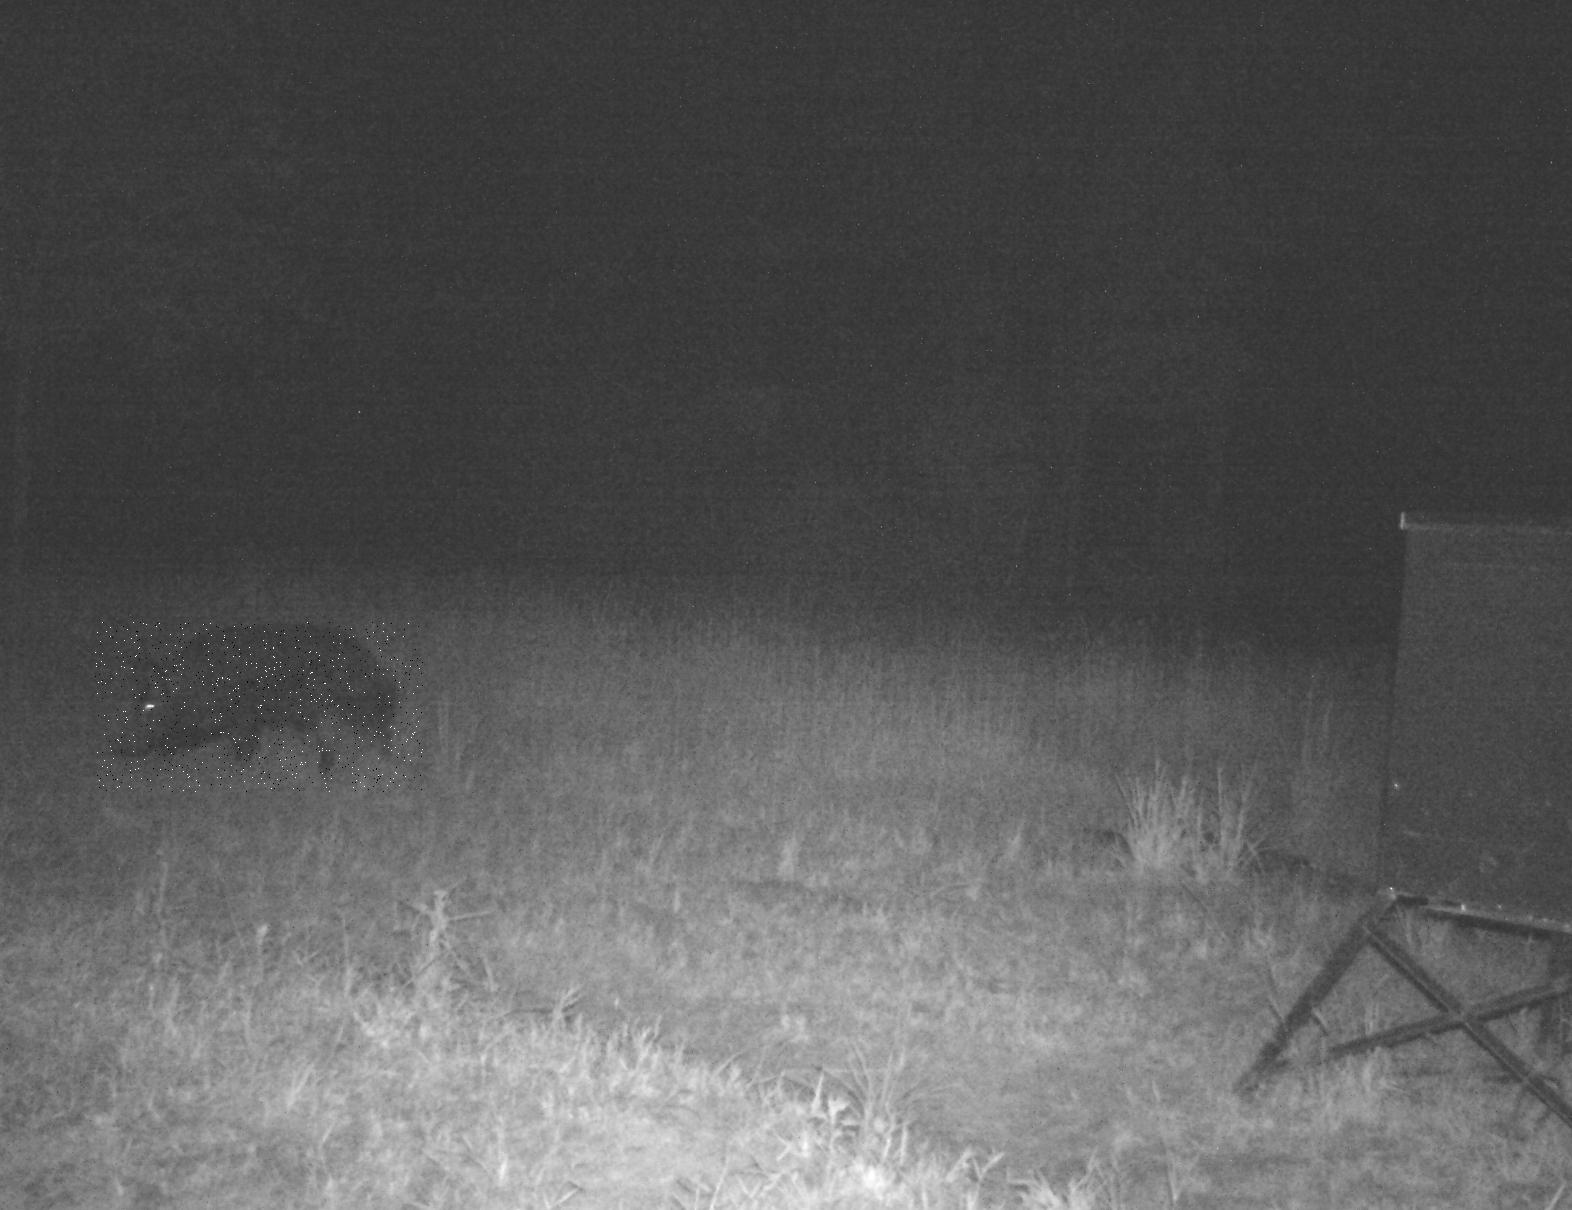Hog: (95, 622, 423, 792)
